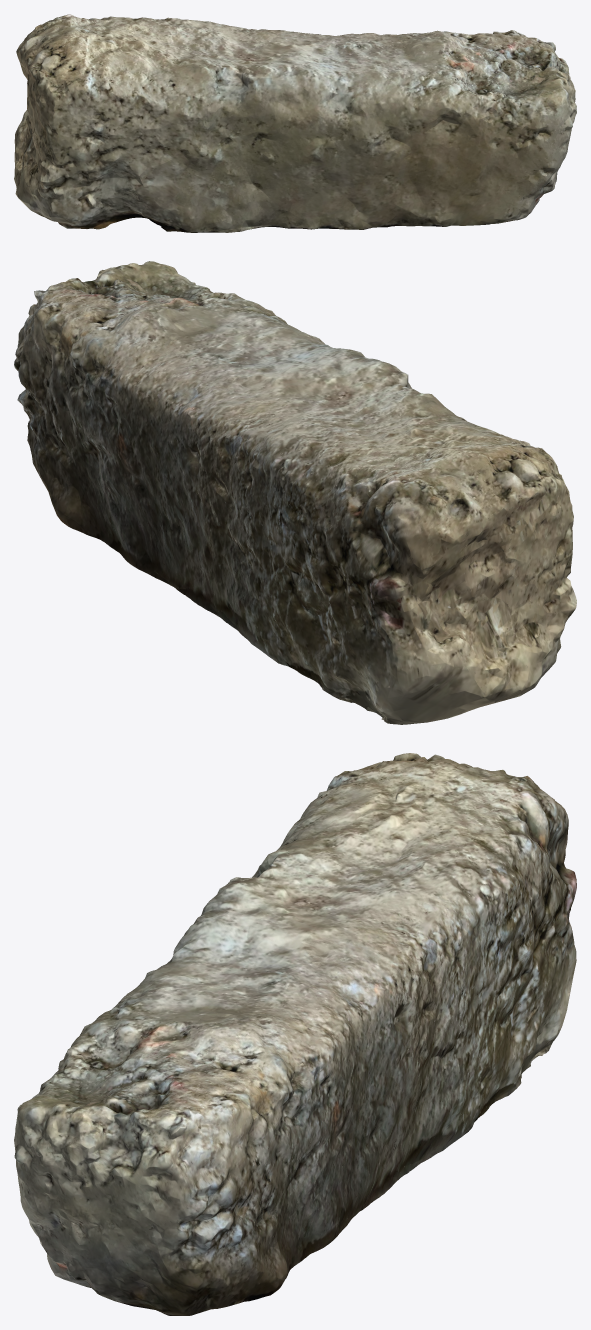
Rendered from FRAG-S1-FS-003.glb.
3 renders of one model, top to bottom at view 1: azimuth 30°, elevation 25°; view 2: azimuth 150°, elevation 25°; view 3: azimuth 270°, elevation 25°, orthographic. The views are drawn at different scales.
Visible parts, largest first — view 1: FRAG-S1-FS-003; view 2: FRAG-S1-FS-003; view 3: FRAG-S1-FS-003.
Boxes of the visible parts, x1,y1,x2,y2 form: FRAG-S1-FS-003: (14,14,576,232); FRAG-S1-FS-003: (14,261,576,724); FRAG-S1-FS-003: (14,753,576,1315).
Size of the model in its own units: 1.93 by 0.7038 by 1.32.
1 material, 1 textured.
